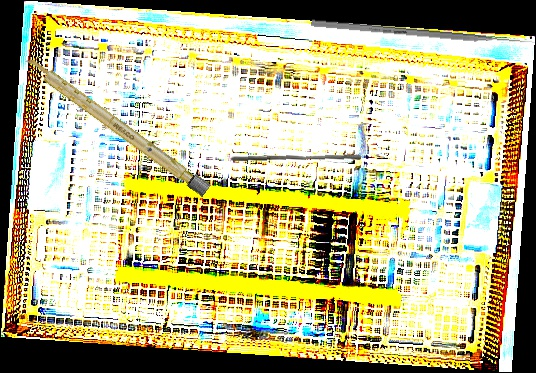Pusher: (311, 19, 535, 47), (230, 149, 362, 167)
Scalpel Handle: (21, 53, 212, 198)
